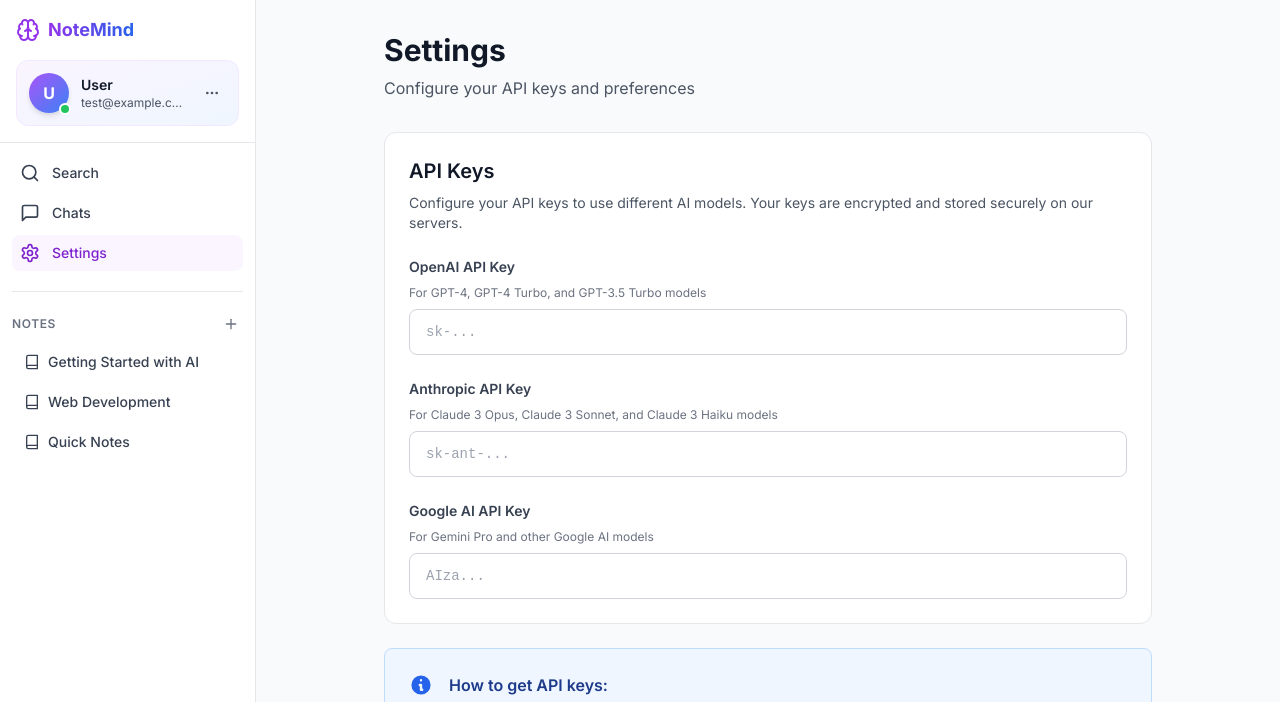
Scenario: Settings Page Integration › Error handling › should display error message on update failure
Type "sk-new-key" into the password field with placeholder "sk-...".
click(768, 332); type("sk-new-key")  # box 409,309 -> 1127,355
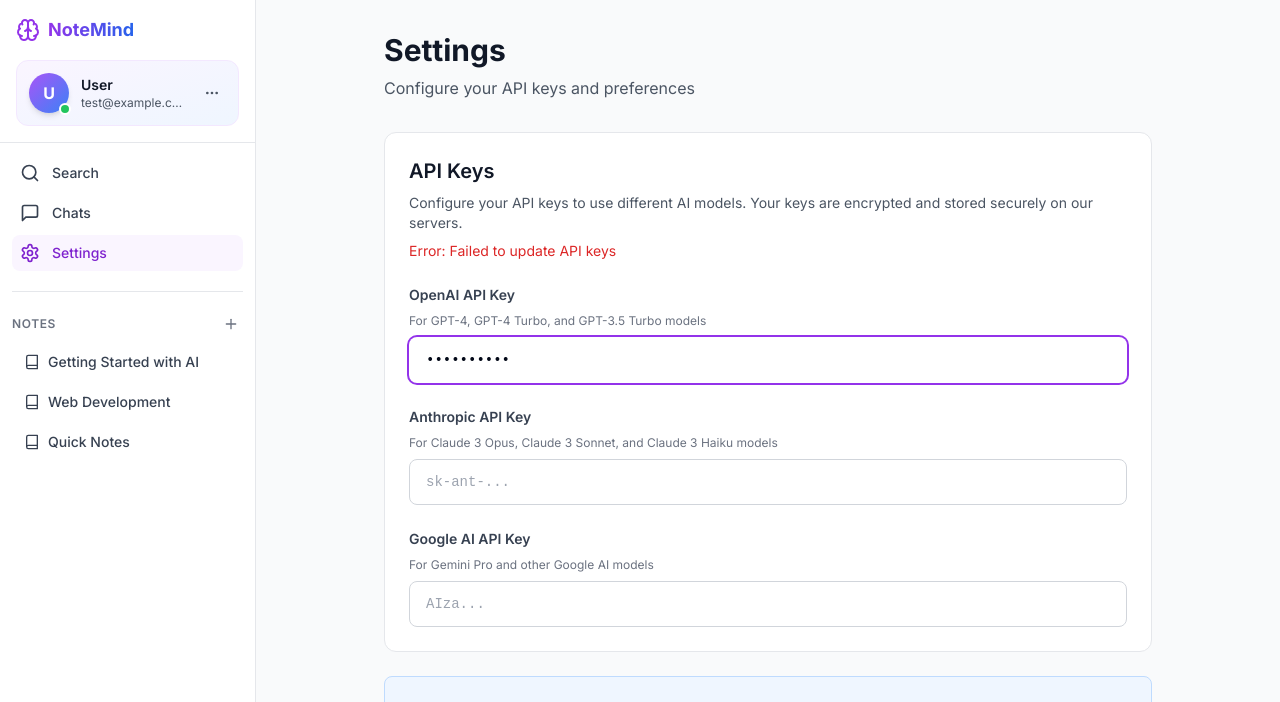
Result: the text "Error: Failed to update API keys" is shown at 409,242 -> 616,259
